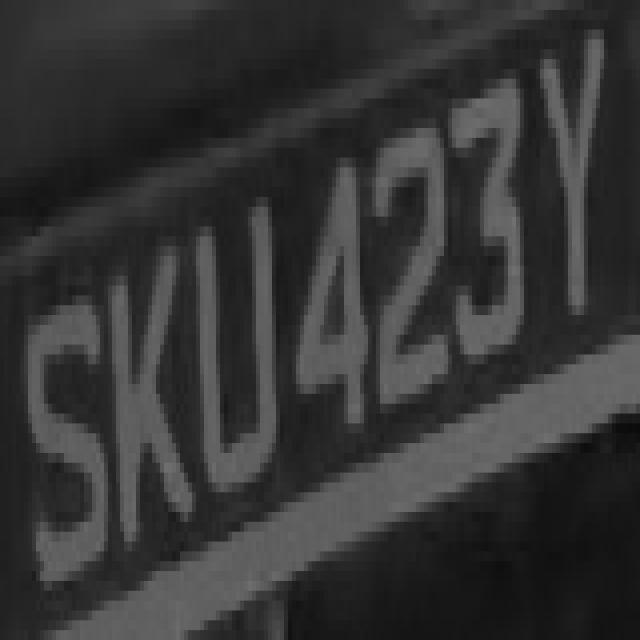2: (368, 79, 460, 423)
3: (436, 59, 528, 404)
4: (280, 148, 380, 472)
K: (100, 217, 192, 571)
S: (20, 276, 116, 610)
U: (192, 167, 288, 522)
Y: (520, 20, 612, 315)
